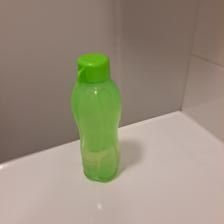bottle: (69, 50, 124, 182)
